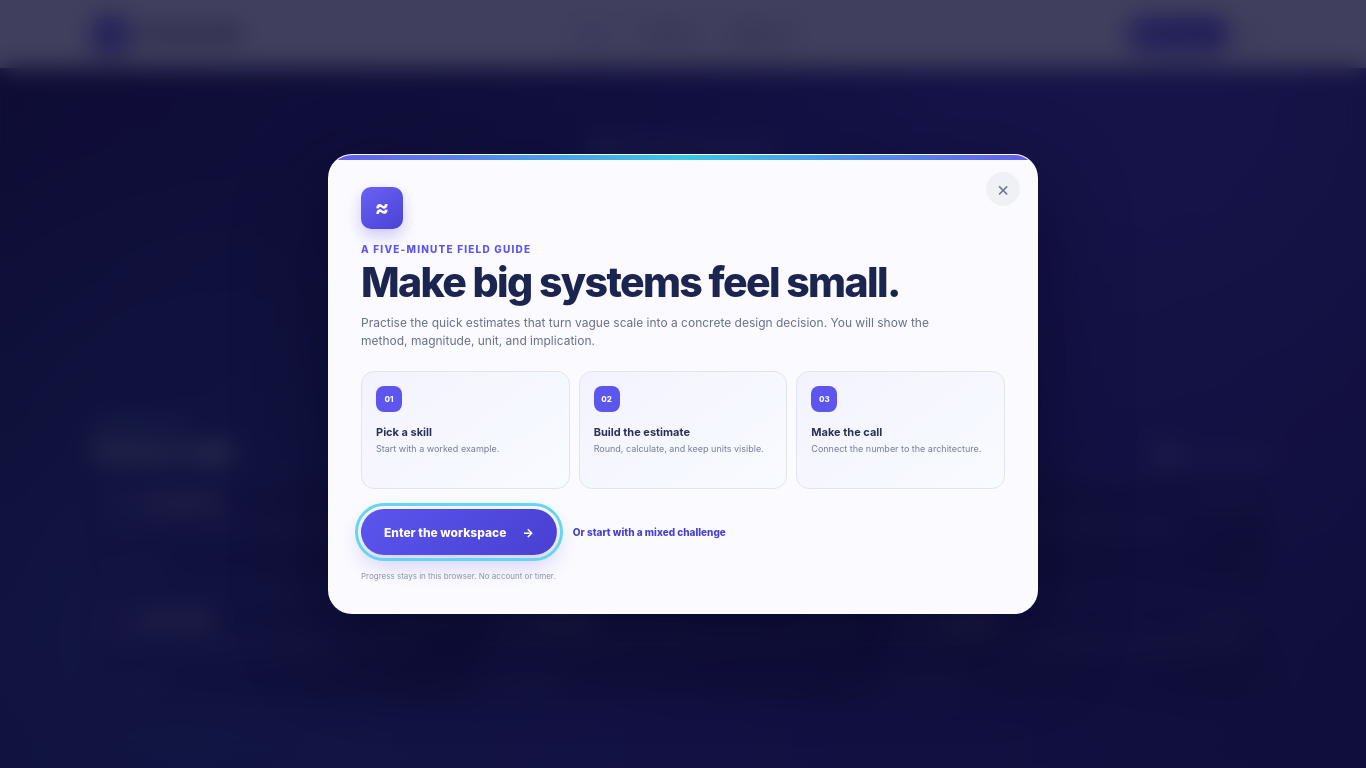
App learning flow › reopens the introduction from the header without resetting progress
The image size is (1366, 768).
Click the button "Enter the workspace →".
click(459, 532)  # box [361,509,557,555]
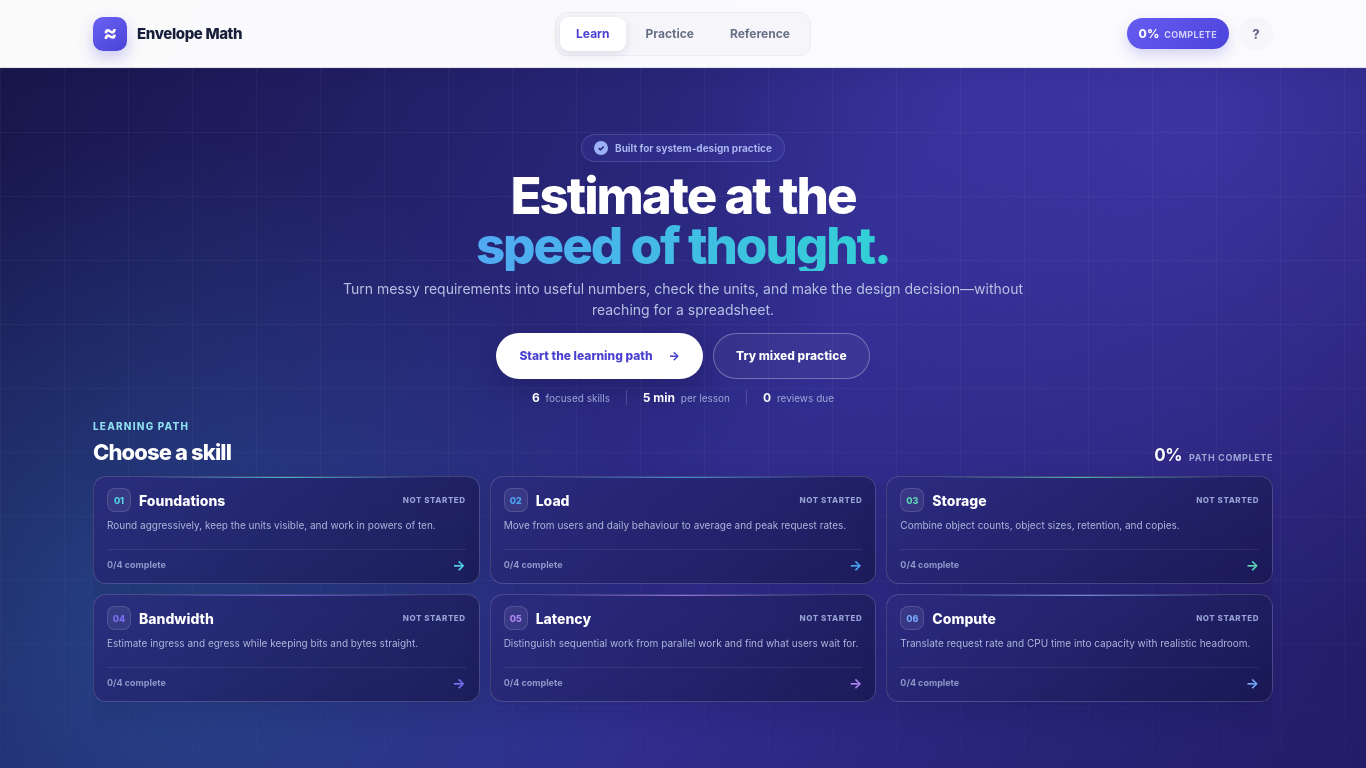
Expected: the dialog is gone
Click the button named "about this guide".
click(1256, 34)  # box [1239,16,1273,50]
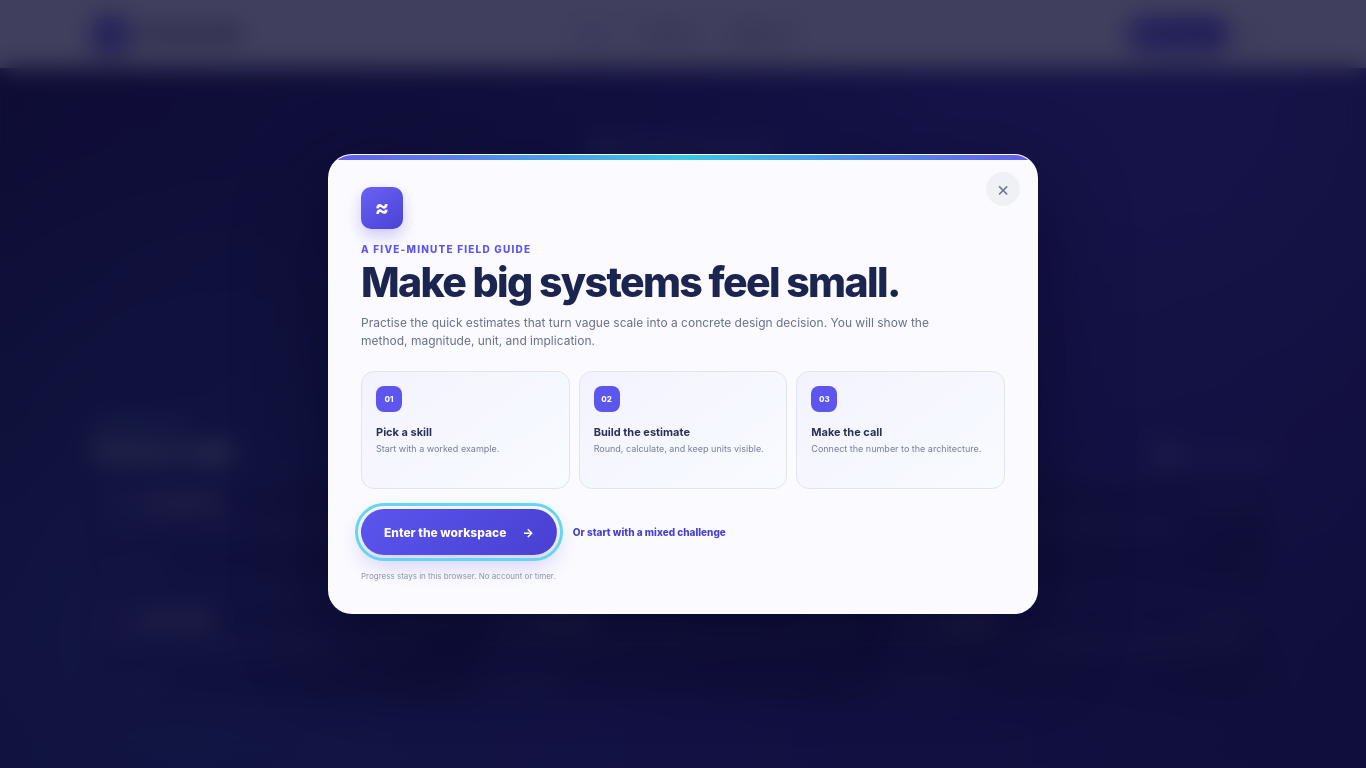
Press Escape
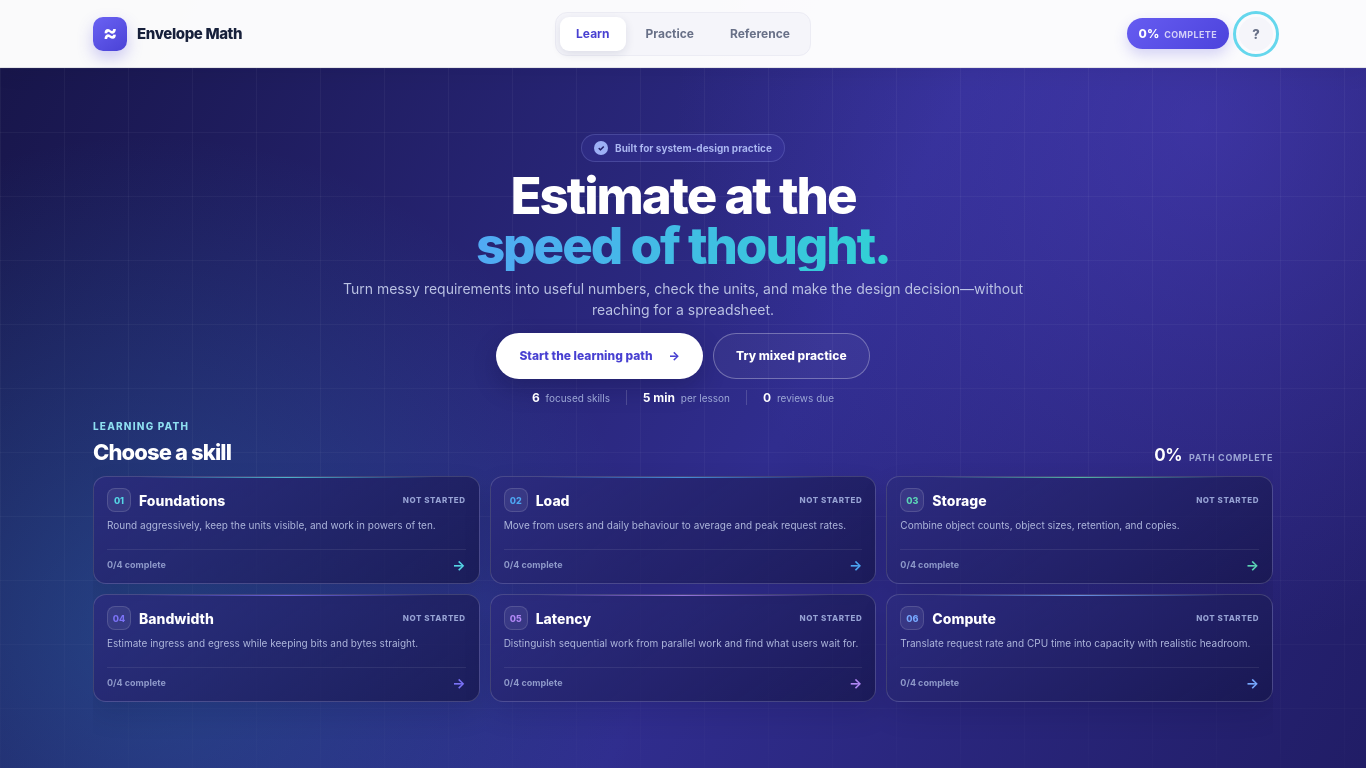
Expected: the dialog is gone
